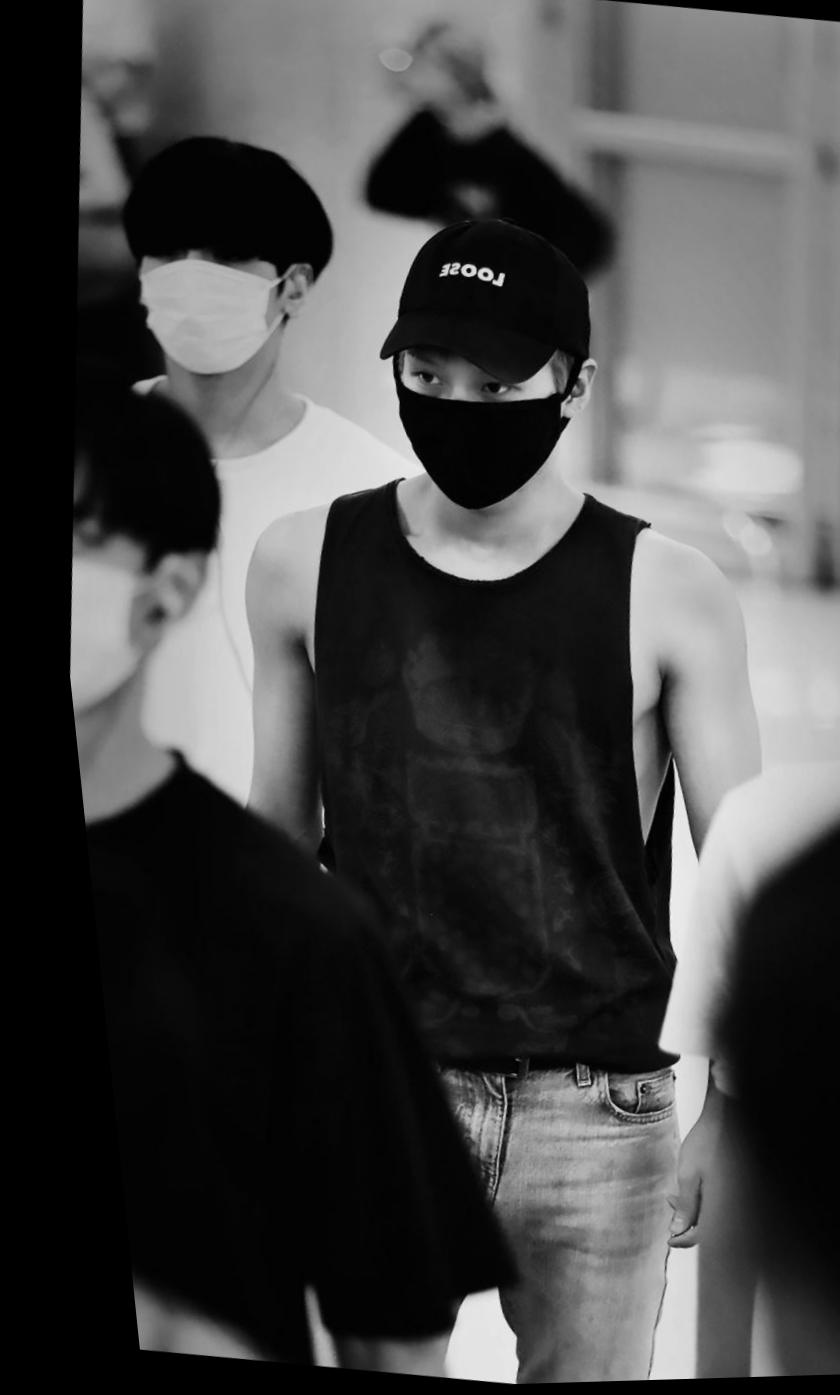OK: (385, 333, 573, 511), (116, 214, 294, 385), (42, 496, 165, 733)
WRONG: (801, 502, 840, 754)
